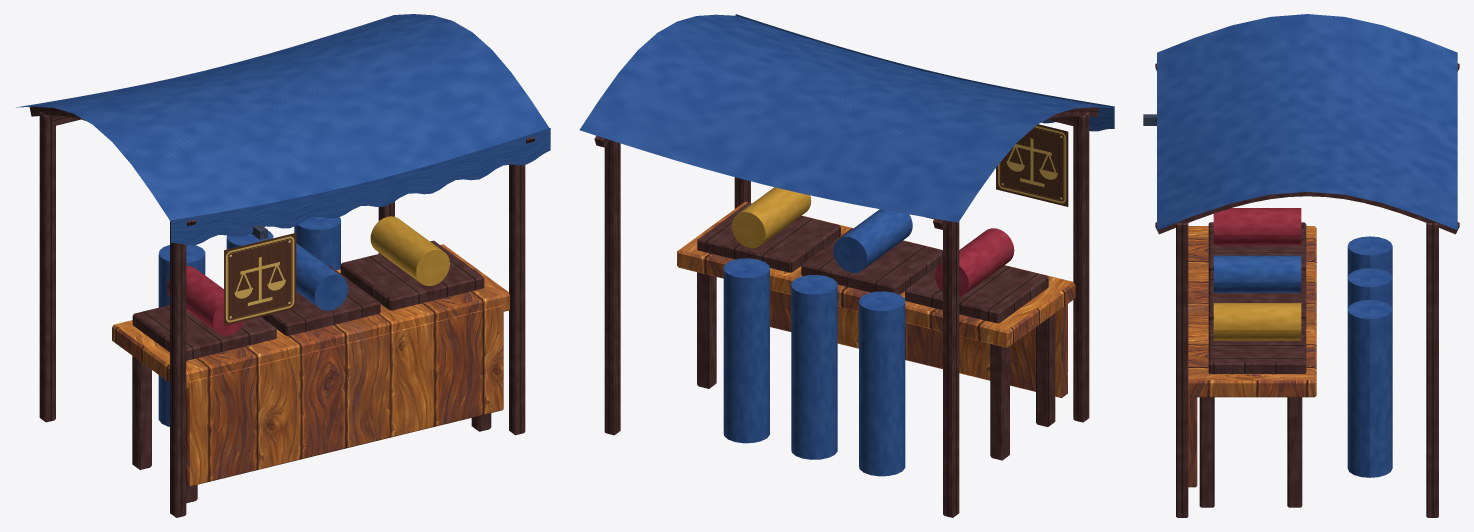
The model's file is Cloth_Stall.fbx.
3 renders of one model, left to right at view 1: azimuth 30°, elevation 25°; view 2: azimuth 150°, elevation 25°; view 3: azimuth 270°, elevation 25°, orthographic. The views are drawn at different scales.
Parts seen in each view (by area): view 1: Draped stitched awning.003, Counter front.003, Scalloped canvas hem.003, Counter top.003, Painted shop sign.003, Canopy post.013, Canopy post.012, Canopy post.014, Display tray.011, Display tray.009, Cloth bolt.002, Display tray.010 (+5 smaller); view 2: Draped stitched awning.003, Fabric bolt, Fabric bolt.002, Fabric bolt.001, Counter top.003, Counter front.003, Canopy post.012, Canopy post.013, Canopy post.015, Painted shop sign.003, Display tray.011, Display tray.009 (+8 smaller); view 3: Draped stitched awning.003, Fabric bolt.002, Counter top.003, Canopy post.014, Canopy post.015, Display tray.011, Cloth bolt.002, Cloth bolt.001, Cloth bolt, Counter leg.014, Counter leg.015, Display tray.009 (+4 smaller).
Boxes of the visible parts, bbox=[...] form: Draped stitched awning.003: bbox=[16, 14, 549, 221]; Counter front.003: bbox=[186, 305, 503, 486]; Scalloped canvas hem.003: bbox=[171, 128, 550, 245]; Counter top.003: bbox=[112, 244, 509, 388]; Painted shop sign.003: bbox=[224, 233, 296, 325]; Canopy post.013: bbox=[39, 111, 55, 422]; Canopy post.012: bbox=[170, 221, 186, 517]; Canopy post.014: bbox=[509, 164, 525, 435]; Display tray.011: bbox=[340, 240, 484, 310]; Display tray.009: bbox=[132, 305, 276, 360]; Cloth bolt.002: bbox=[370, 216, 449, 286]; Display tray.010: bbox=[261, 266, 380, 335]; Draped stitched awning.003: bbox=[579, 14, 1113, 222]; Fabric bolt: bbox=[859, 291, 905, 476]; Fabric bolt.002: bbox=[723, 258, 769, 443]; Fabric bolt.001: bbox=[791, 275, 837, 459]; Counter top.003: bbox=[677, 202, 1075, 347]; Counter front.003: bbox=[770, 290, 1067, 397]; Canopy post.012: bbox=[1073, 112, 1089, 422]; Canopy post.013: bbox=[943, 221, 959, 517]; Canopy post.015: bbox=[604, 140, 620, 435]; Painted shop sign.003: bbox=[996, 124, 1068, 206]; Display tray.011: bbox=[697, 203, 840, 272]; Display tray.009: bbox=[905, 265, 1048, 323]; Draped stitched awning.003: bbox=[1157, 14, 1457, 230]; Fabric bolt.002: bbox=[1347, 300, 1392, 477]; Counter top.003: bbox=[1188, 226, 1316, 397]; Canopy post.014: bbox=[1176, 223, 1188, 517]; Canopy post.015: bbox=[1426, 223, 1438, 517]; Display tray.011: bbox=[1208, 319, 1306, 373]; Cloth bolt.002: bbox=[1213, 303, 1301, 340]; Cloth bolt.001: bbox=[1213, 255, 1301, 292]; Cloth bolt: bbox=[1213, 208, 1301, 245]; Counter leg.014: bbox=[1199, 397, 1214, 507]; Counter leg.015: bbox=[1287, 397, 1302, 507]; Display tray.009: bbox=[1208, 222, 1306, 272].
Size of the model in its own units: 336 by 294 by 253.
